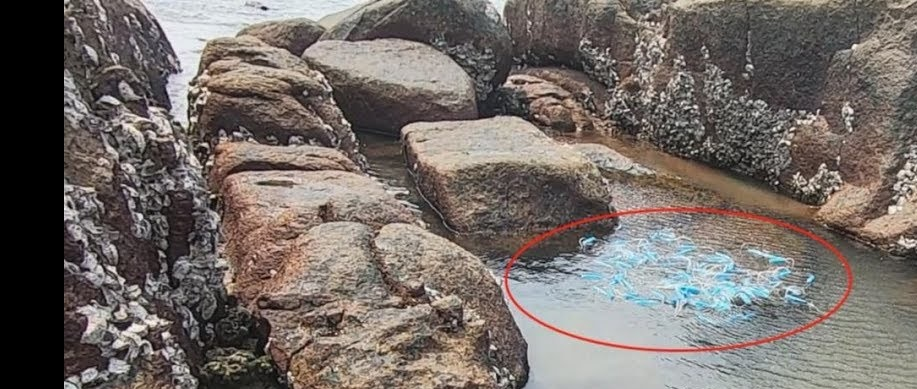net: (577, 223, 799, 321)
